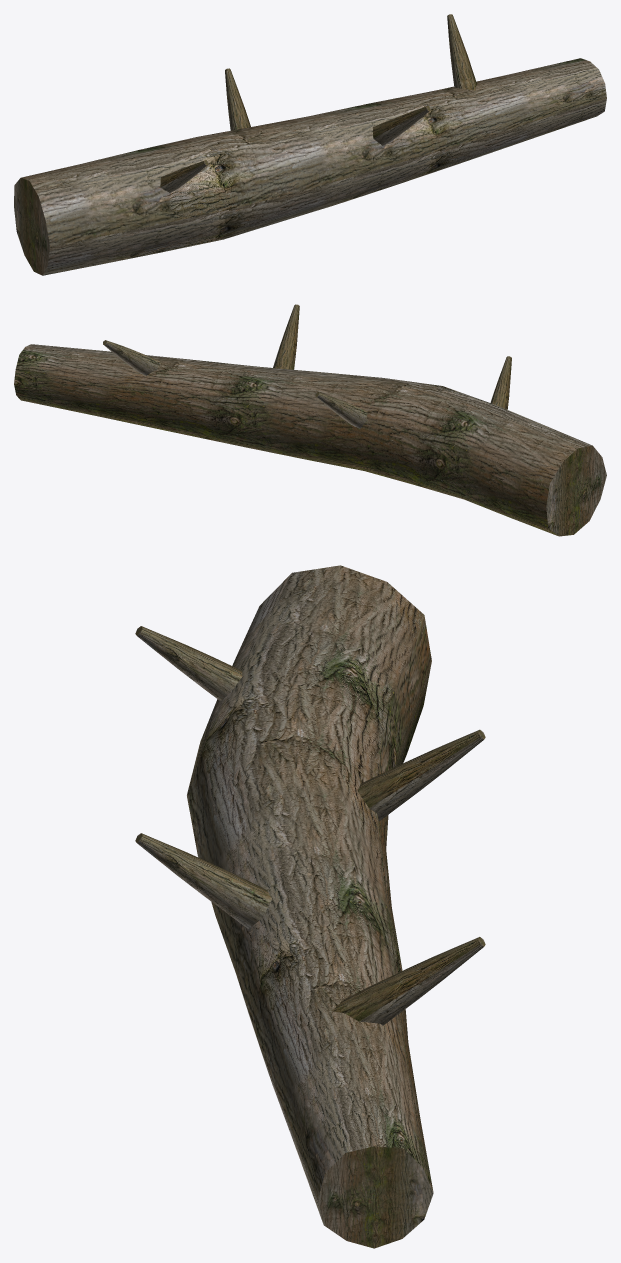
Rendered from fallen_log_lod2.gltf.
The picture shows the model from 3 angles, top to bottom: view 1: azimuth 30°, elevation 25°; view 2: azimuth 150°, elevation 25°; view 3: azimuth 270°, elevation 25°; orthographic projection. The views are drawn at different scales.
Visible parts, largest first — view 1: fallen_log_lod2; view 2: fallen_log_lod2; view 3: fallen_log_lod2.
Boxes of the visible parts, <box> form: fallen_log_lod2: <box>14,14,606,275</box>; fallen_log_lod2: <box>14,304,606,536</box>; fallen_log_lod2: <box>135,565,485,1248</box>.
Bounding box in the file's own units: 2.59 × 0.5154 × 0.7149.
Materials: 1 (1 with a texture image).
